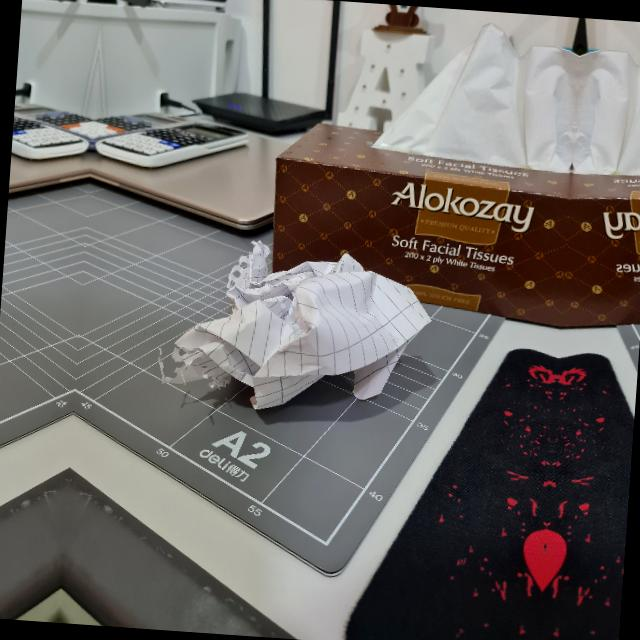paper: (163, 238, 431, 425)
